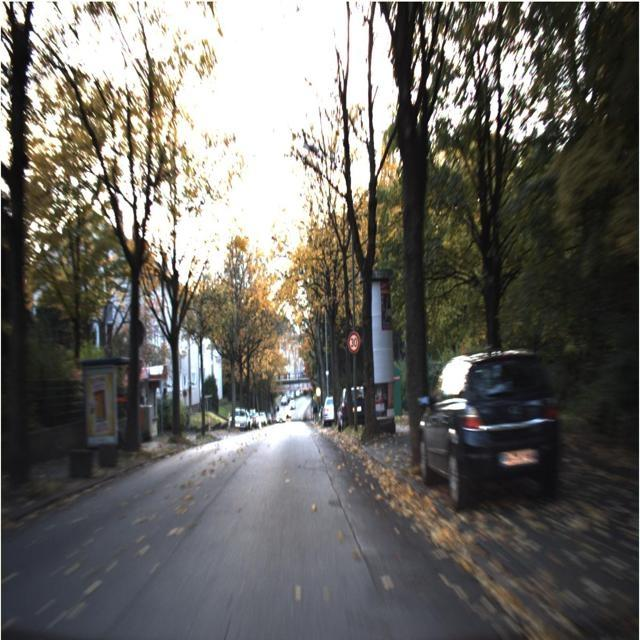forb_speed_over_30: (347, 331, 360, 354)
